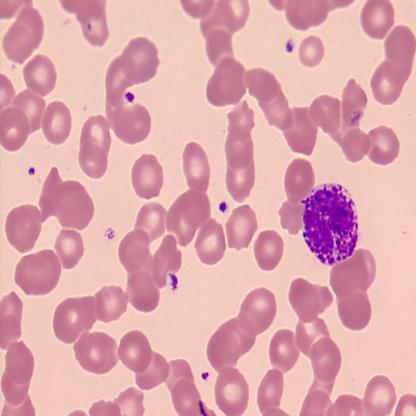Basophil: (299, 181, 361, 268)
